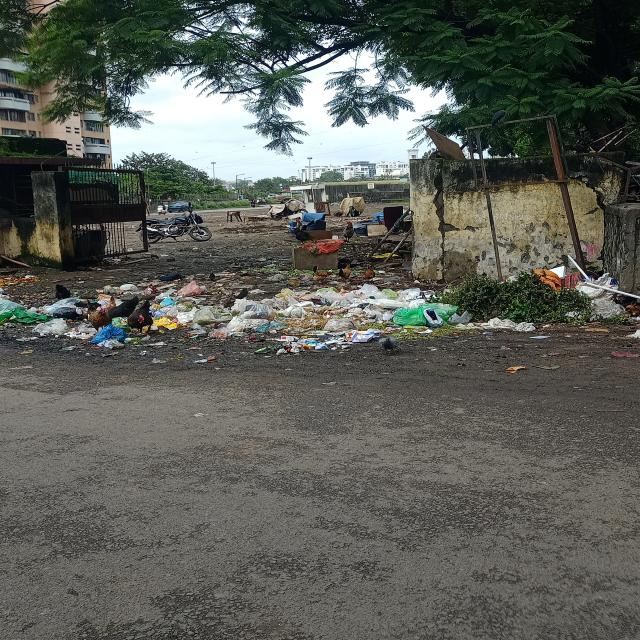garbage: (5, 270, 596, 342)
